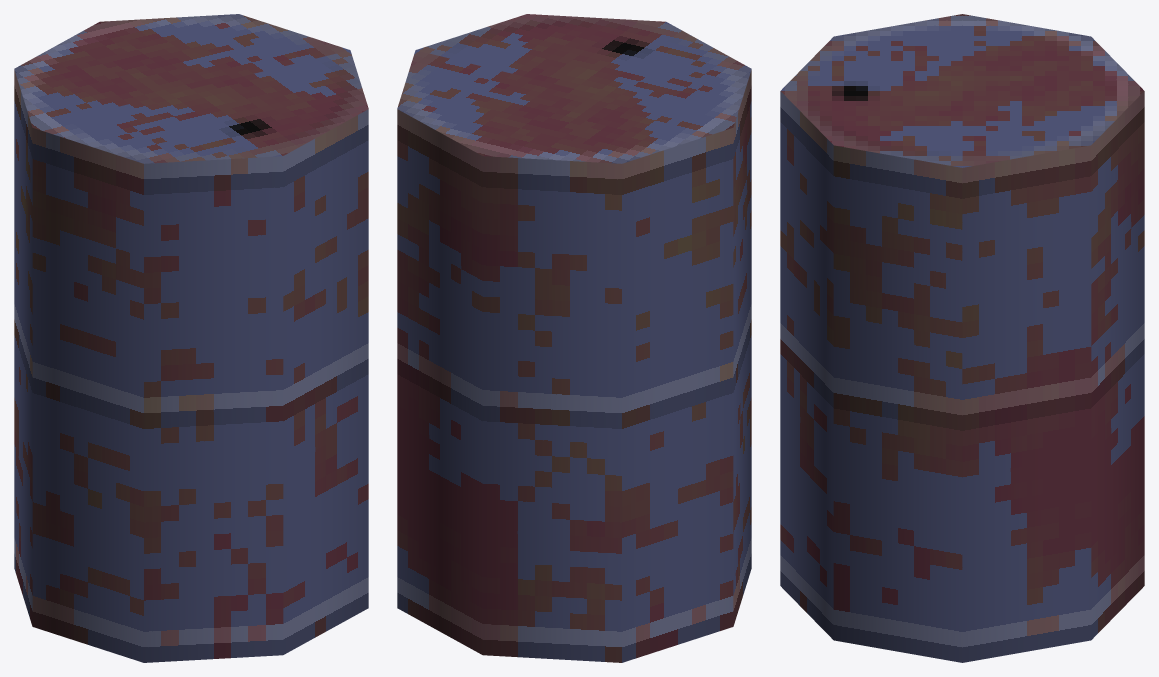
Rendered from SM_Barrel.dae.
The picture shows the model from 3 angles, left to right: view 1: azimuth 30°, elevation 25°; view 2: azimuth 150°, elevation 25°; view 3: azimuth 270°, elevation 25°; orthographic projection.
Visible parts, largest first — view 1: Barrel; view 2: Barrel; view 3: Barrel.
Boxes of the visible parts, x1,y1,x2,y2 form: Barrel: [14, 14, 368, 662]; Barrel: [397, 14, 751, 662]; Barrel: [780, 14, 1144, 662].
Bounding box in the file's own units: 1 × 1 × 1.5.
